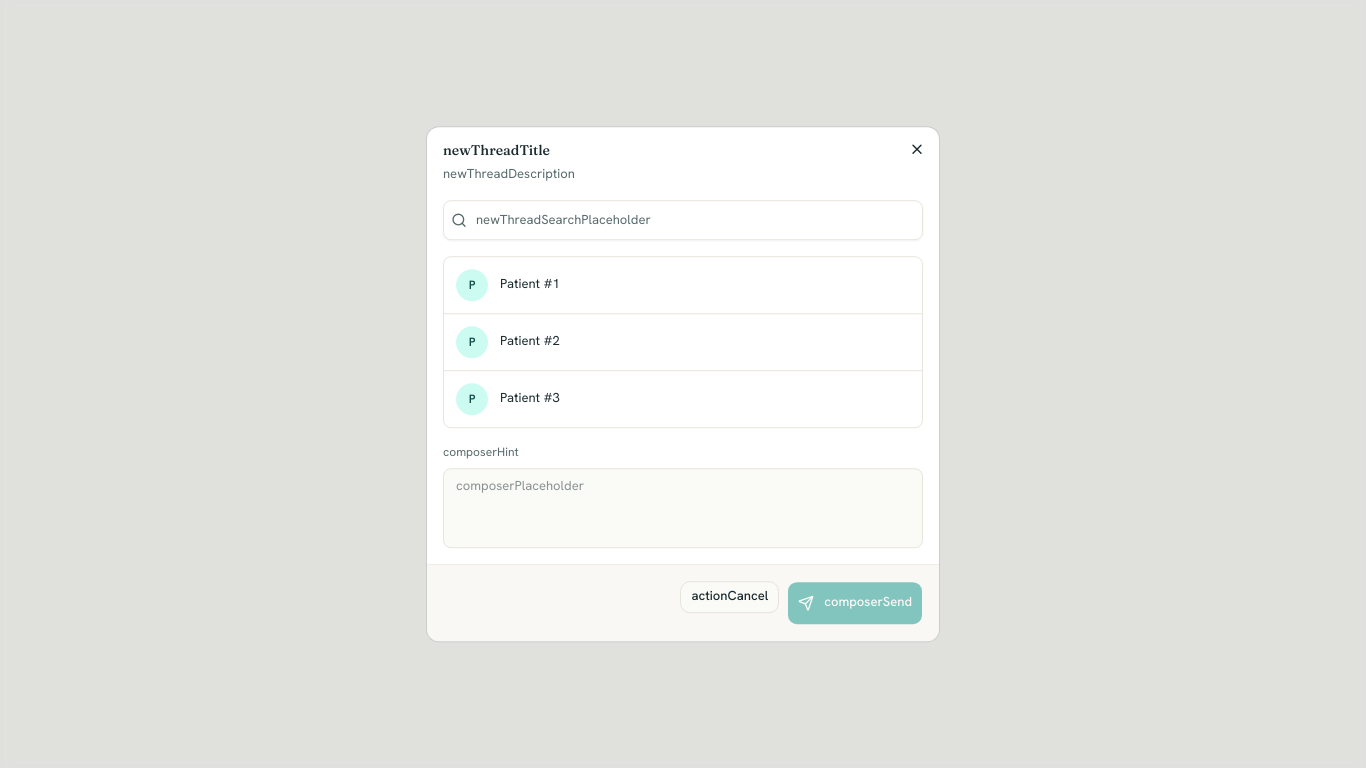
NewThreadModal (iter 4) › search filter → no match → newThreadNoMatch
Type "999" into the search field at (683, 220), box [443,200,923,240]
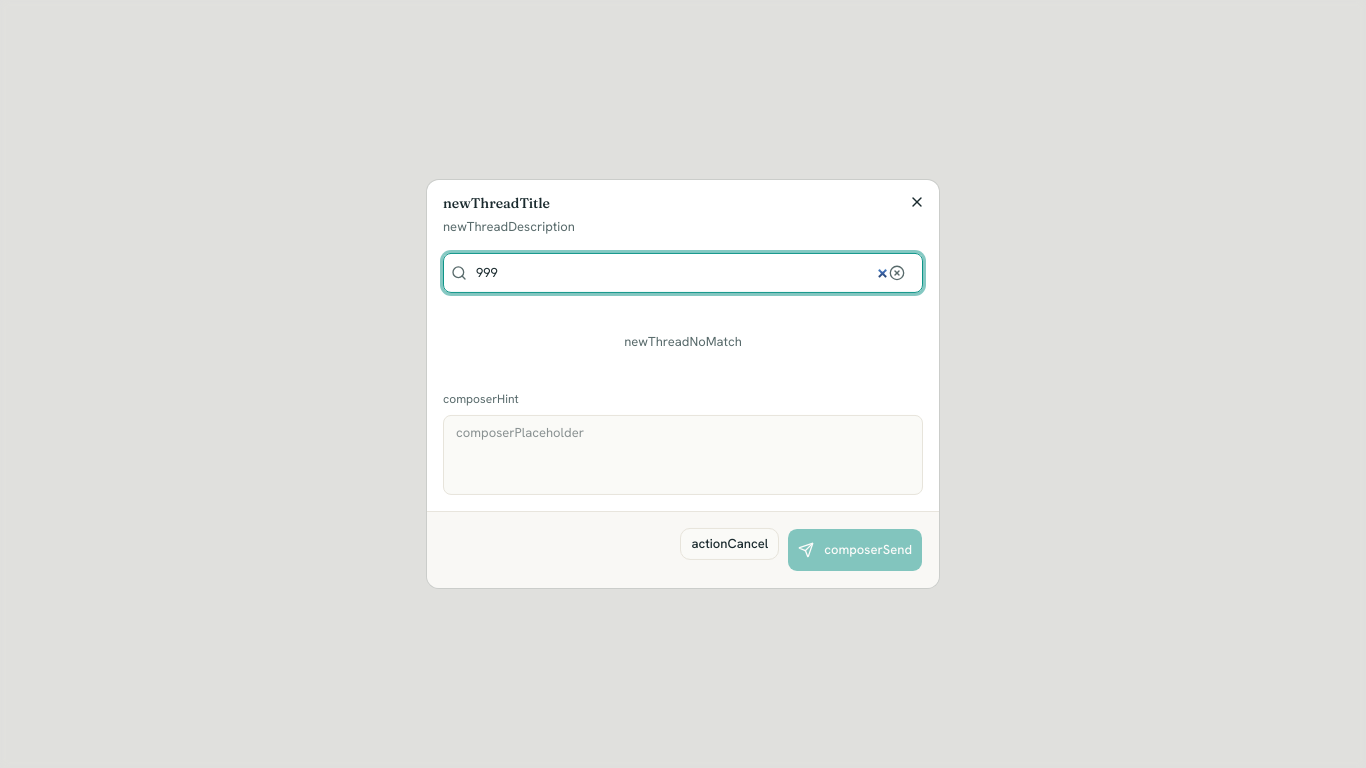
Result: the text "newThreadNoMatch" is shown at [624,332,742,350]
